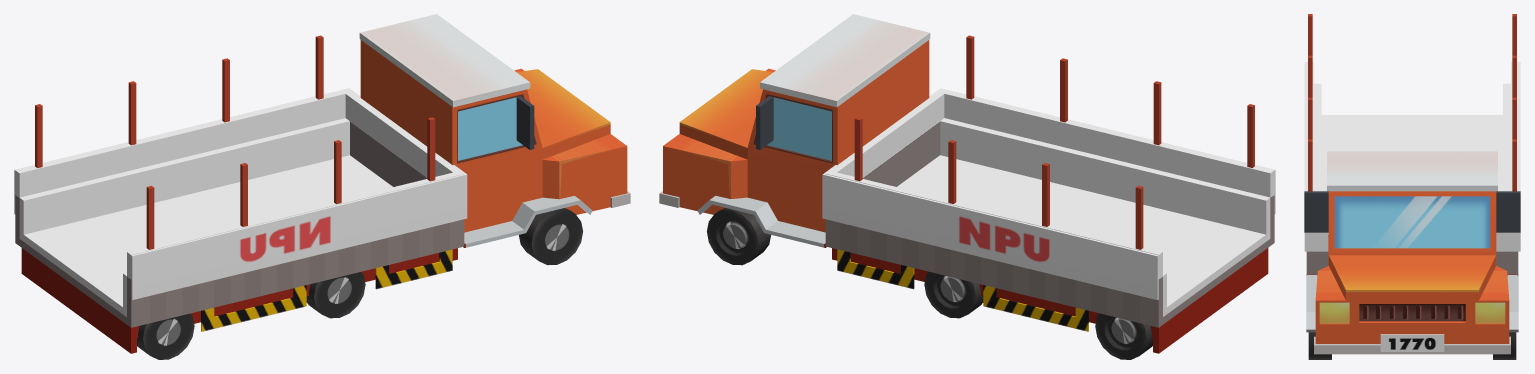
The model's file is Truck.fbx.
3 renders of one model, left to right at view 1: azimuth 30°, elevation 25°; view 2: azimuth 150°, elevation 25°; view 3: azimuth 270°, elevation 25°, orthographic. The views are drawn at different scales.
Visible parts, largest first — view 1: Truck_2, truck_03_w_2, truck_03_w_3, truck_03_w_4; view 2: Truck_2, truck_03_w_01, truck_03_w, truck_03_w_1; view 3: Truck_2, truck_03_w_01, truck_03_w_2.
Boxes of the visible parts, box(x1,y1,x2,y2) form: Truck_2: box(14, 14, 630, 353); truck_03_w_2: box(519, 208, 582, 265); truck_03_w_3: box(306, 271, 365, 318); truck_03_w_4: box(137, 313, 194, 359); Truck_2: box(659, 14, 1275, 353); truck_03_w_01: box(707, 208, 770, 265); truck_03_w: box(924, 271, 983, 318); truck_03_w_1: box(1095, 313, 1152, 359); Truck_2: box(1304, 14, 1520, 354); truck_03_w_01: box(1493, 332, 1516, 359); truck_03_w_2: box(1308, 332, 1331, 359).
Bounding box in the file's own units: 125 × 42.35 × 50.6.
1 material, 1 textured.
